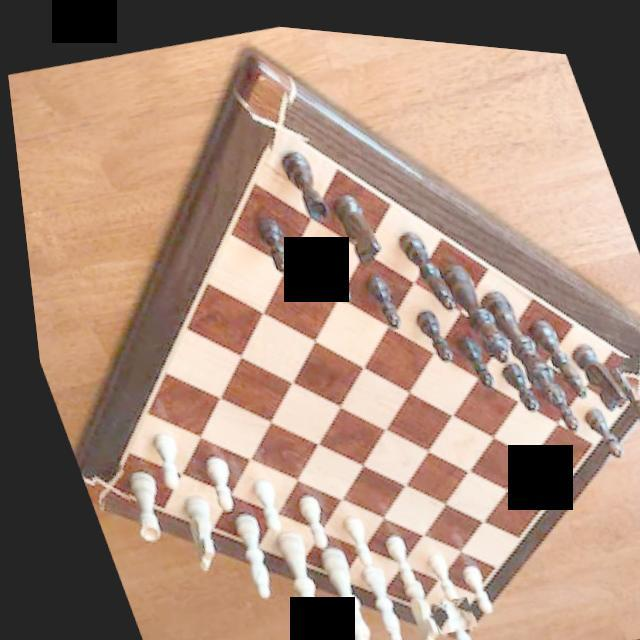chess-table-corners: (242, 81, 312, 152), (76, 458, 124, 512), (414, 585, 464, 629), (608, 333, 640, 395)
